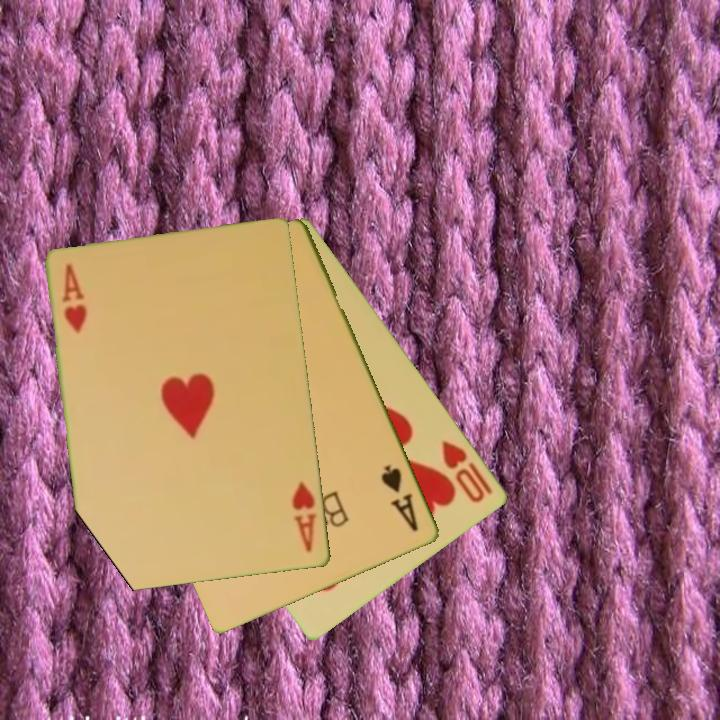10h: (438, 436, 489, 506)
Ah: (59, 260, 90, 337), (289, 479, 320, 555)
As: (378, 462, 422, 535)
